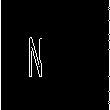N_N: (47, 30, 63, 80)
